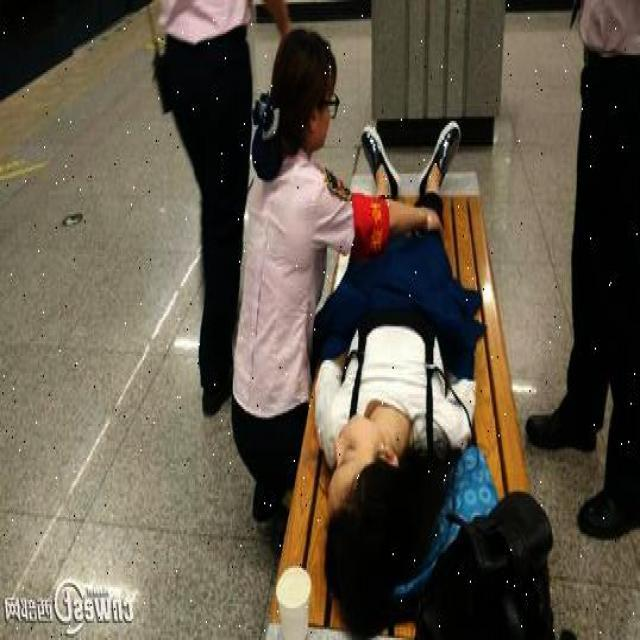fall: (330, 119, 472, 610)
